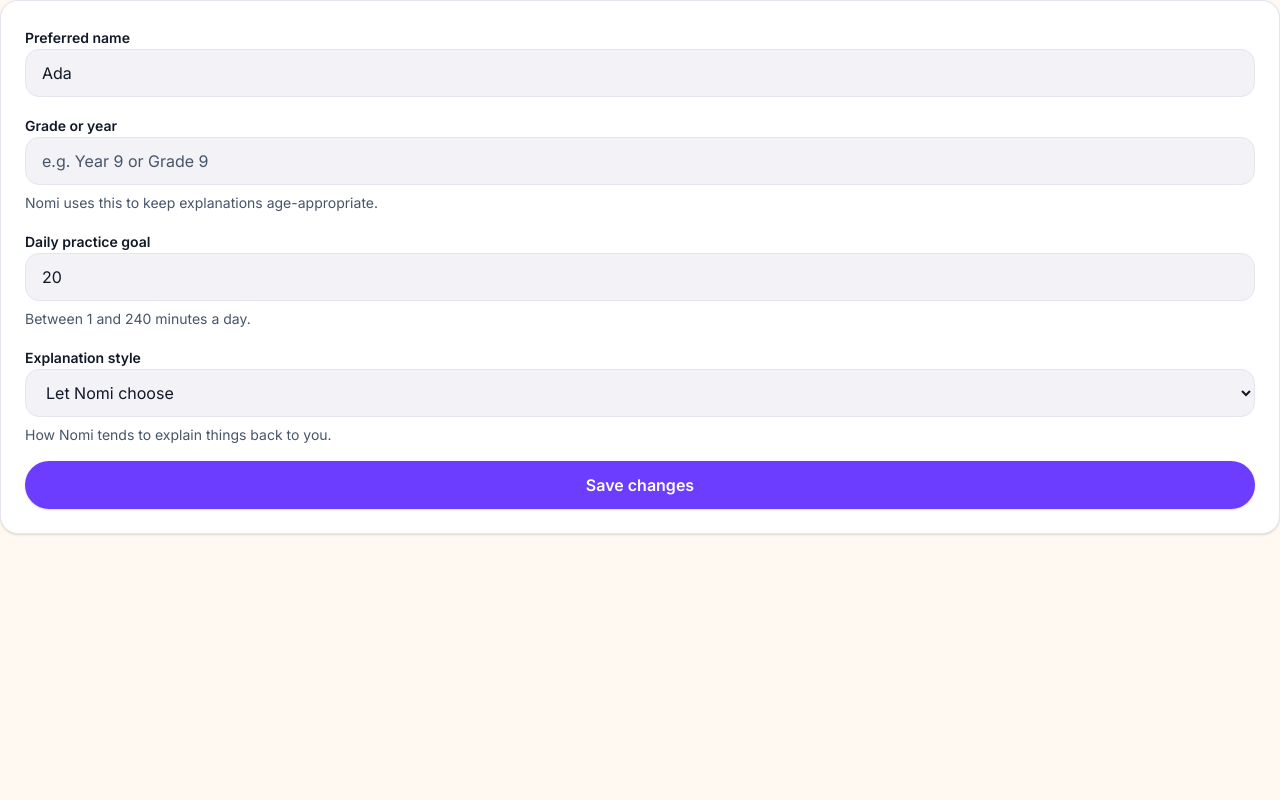
ProfilePreferencesForm › shows field errors returned from the action
Step 1. Click the button "Save changes" → (640, 485), box x1=25 y1=461 x2=1255 y2=509
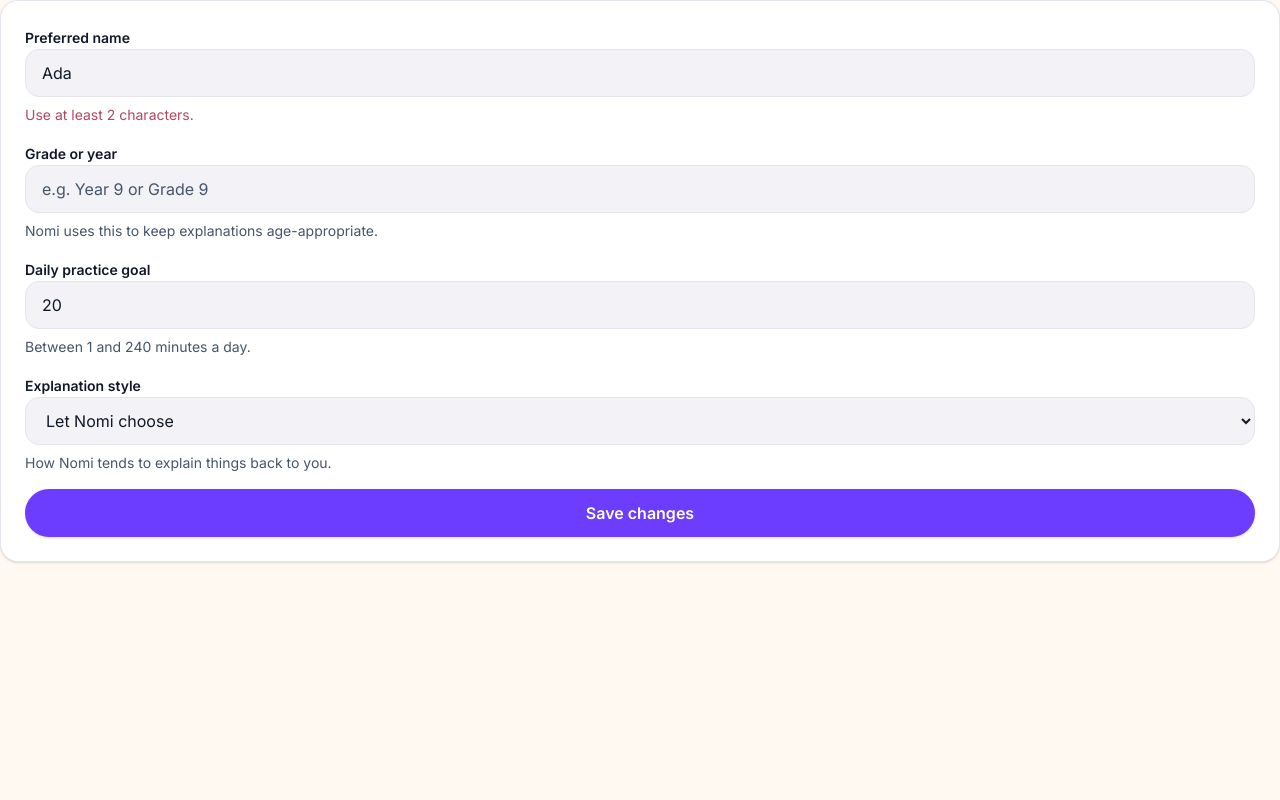
Expected: the text "Use at least 2 characters." is shown, x1=25 y1=106 x2=194 y2=123
